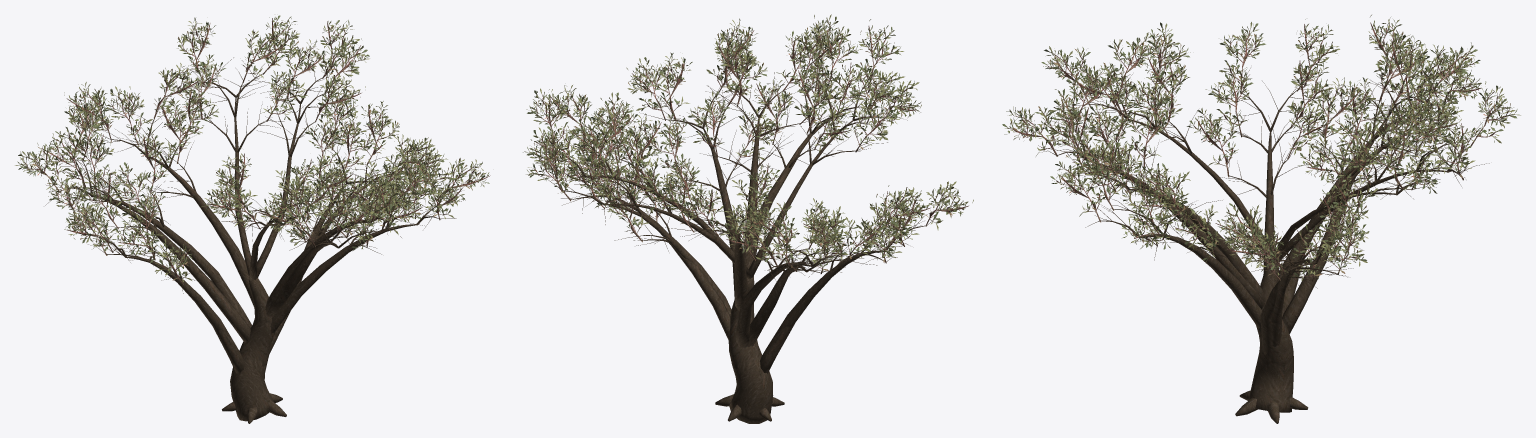
Rendered from olive-low.glb.
3 views of the same model, side by side, from view 1: azimuth 30°, elevation 25°; view 2: azimuth 150°, elevation 25°; view 3: azimuth 270°, elevation 25° (orthographic). The views are drawn at different scales.
Visible parts, largest first — view 1: olive crown photographed shoots, olive trunk and connected boughs; view 2: olive crown photographed shoots, olive trunk and connected boughs; view 3: olive crown photographed shoots, olive trunk and connected boughs.
Boxes of the visible parts, x1,y1,x2,y2 form: olive crown photographed shoots: [15, 15, 490, 284]; olive trunk and connected boughs: [45, 54, 465, 423]; olive crown photographed shoots: [523, 14, 973, 273]; olive trunk and connected boughs: [532, 59, 936, 423]; olive crown photographed shoots: [1002, 15, 1520, 281]; olive trunk and connected boughs: [1041, 68, 1489, 423].
Bounding box in the file's own units: 3.31 × 2.7 × 3.5.
2 materials, 2 textured.
